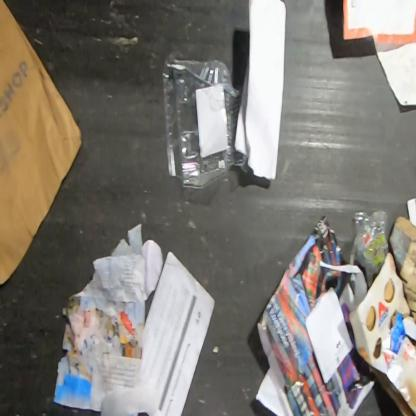cardboard: (348, 251, 415, 415), (389, 214, 415, 324)
rigid_plastic: (162, 56, 253, 191)
soft_plastic: (354, 209, 390, 289)
